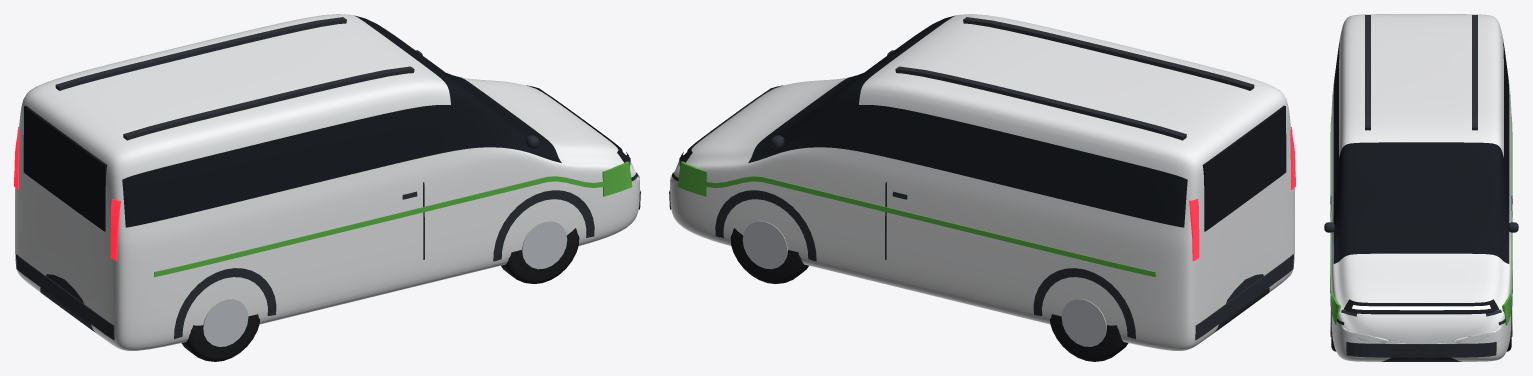
Rendered from elli.glb.
3 views of the same model, side by side, from view 1: azimuth 30°, elevation 25°; view 2: azimuth 150°, elevation 25°; view 3: azimuth 270°, elevation 25° (orthographic). The views are drawn at different scales.
Parts seen in each view (by area): view 1: elli; view 2: elli; view 3: elli.
Part boxes in pixels (left/top/right/bottom): elli: left=14, top=14, right=640, bottom=361; elli: left=669, top=14, right=1295, bottom=361; elli: left=1324, top=14, right=1518, bottom=361.
Size of the model in its own units: 4.58 by 1.89 by 1.82.
